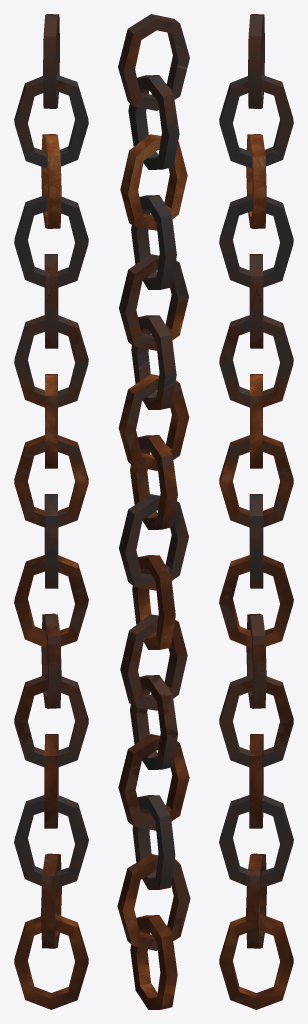
File: Chain_Long.glb
The picture shows the model from 3 angles, left to right: view 1: azimuth 90°, elevation 25°; view 2: azimuth 210°, elevation 25°; view 3: azimuth 270°, elevation 25°; orthographic projection.
Visible parts, largest first — view 1: Chain_Long; view 2: Chain_Long; view 3: Chain_Long.
Part boxes in pixels (x1,y1,x2,y2): Chain_Long: [14, 14, 88, 1009]; Chain_Long: [117, 14, 190, 1009]; Chain_Long: [219, 14, 293, 1009].
Size of the model in its own units: 0.1419 by 2.07 by 0.1416.
1 material, 1 textured.
